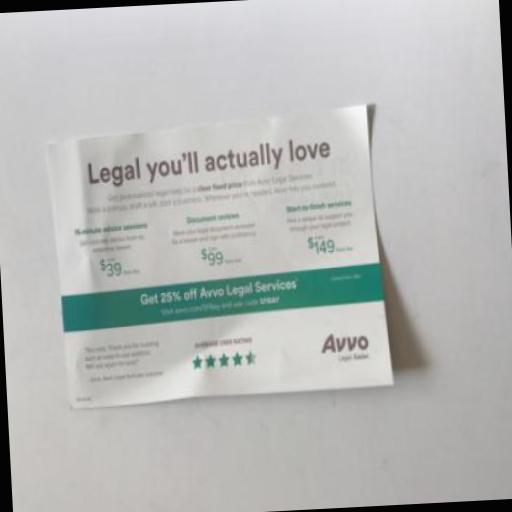paper: (42, 103, 394, 408)
